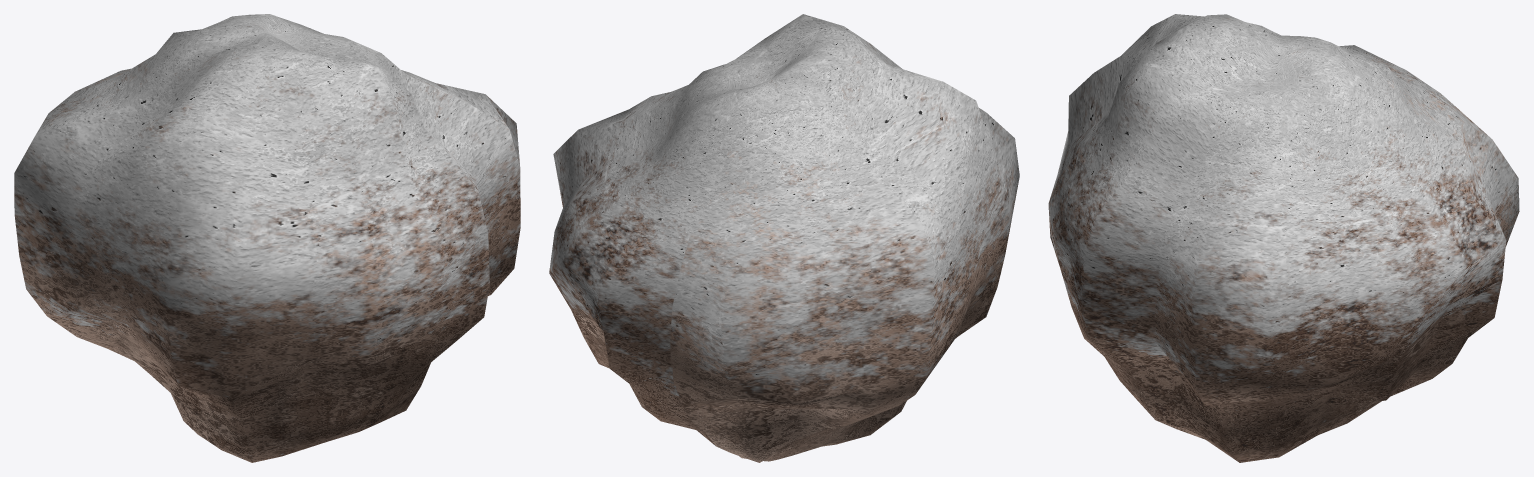
Rendered from stone 3.fbx.
The picture shows the model from 3 angles, left to right: view 1: azimuth 30°, elevation 25°; view 2: azimuth 150°, elevation 25°; view 3: azimuth 270°, elevation 25°; orthographic projection. The views are drawn at different scales.
Parts seen in each view (by area): view 1: pSphere3; view 2: pSphere3; view 3: pSphere3.
Part boxes in pixels (x1,y1,x2,y2): pSphere3: (14, 14, 520, 462); pSphere3: (549, 14, 1019, 462); pSphere3: (1048, 14, 1519, 462).
Size of the model in its own units: 53.52 by 47.15 by 50.54.
